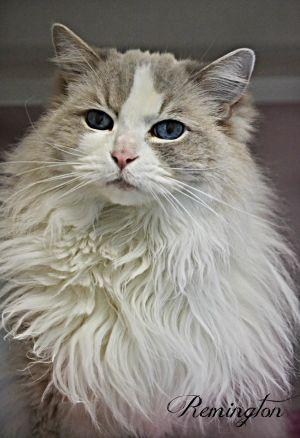ragdoll: (40, 17, 266, 217)
